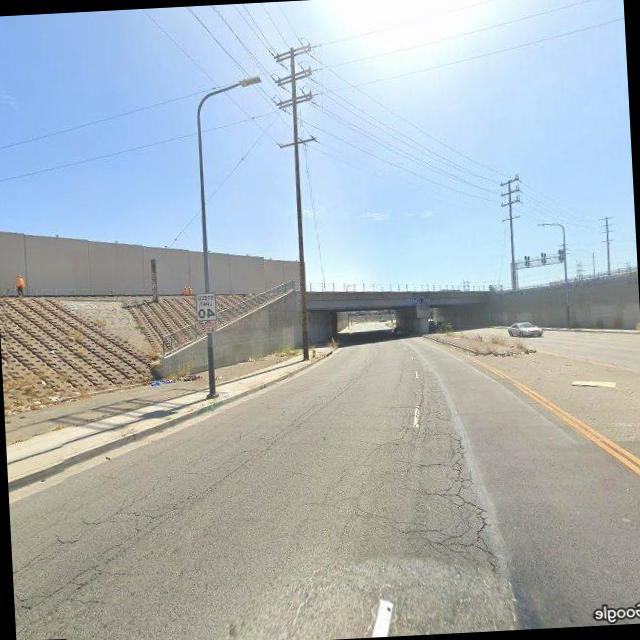crack: (8, 453, 256, 621), (380, 384, 496, 580)
